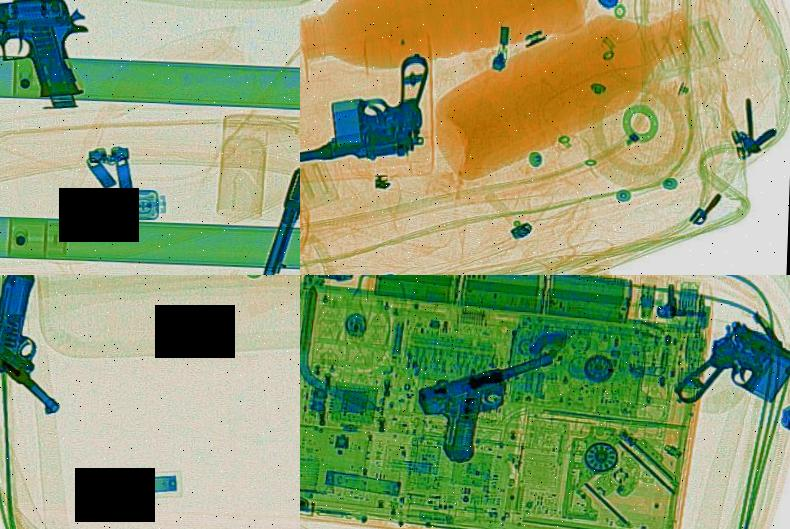Gun: (404, 344, 594, 468), (300, 42, 451, 176), (661, 314, 790, 456), (0, 277, 124, 416), (0, 0, 116, 109), (249, 126, 300, 275)
